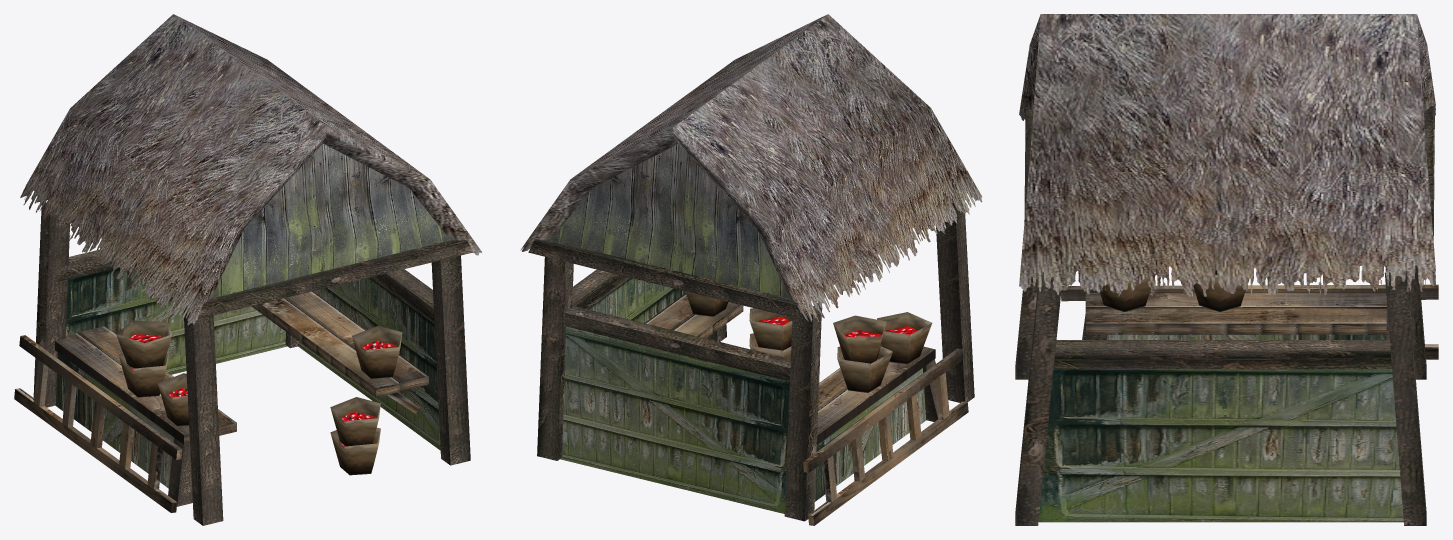
The model's file is building_farm_apples.glb.
3 renders of one model, left to right at view 1: azimuth 30°, elevation 25°; view 2: azimuth 150°, elevation 25°; view 3: azimuth 270°, elevation 25°, orthographic. The views are drawn at different scales.
Parts seen in each view (by area): view 1: building_farm_apples; view 2: building_farm_apples; view 3: building_farm_apples.
Part boxes in pixels (x1,y1,x2,y2): building_farm_apples: (14,14,481,525); building_farm_apples: (520,14,982,525); building_farm_apples: (1015,14,1438,525).
Bounding box in the file's own units: 4 × 4.6 × 4.04.
6 materials, 6 textured.
